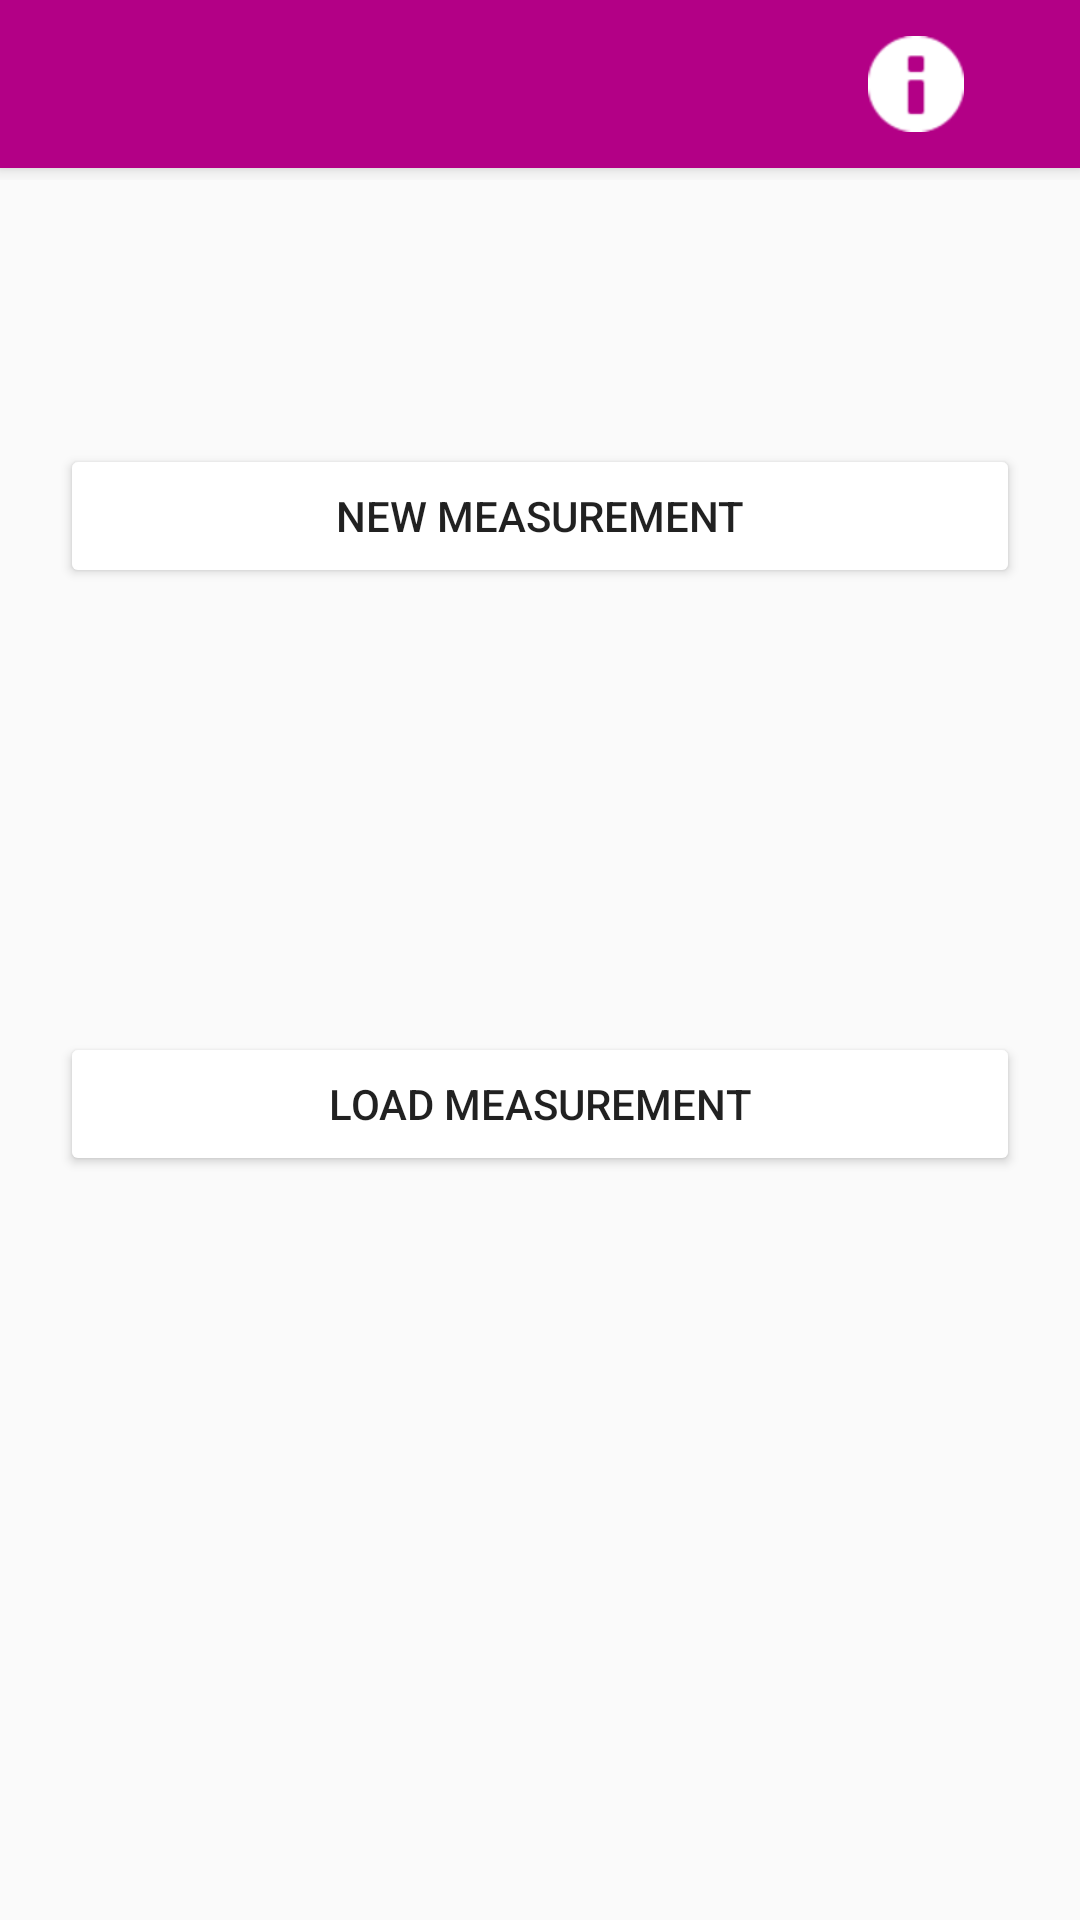

Named icons in this screenshot (1080×1920) and their bounding boxes, (x1, y1, x2, y2):
info: (868, 36, 964, 132)
